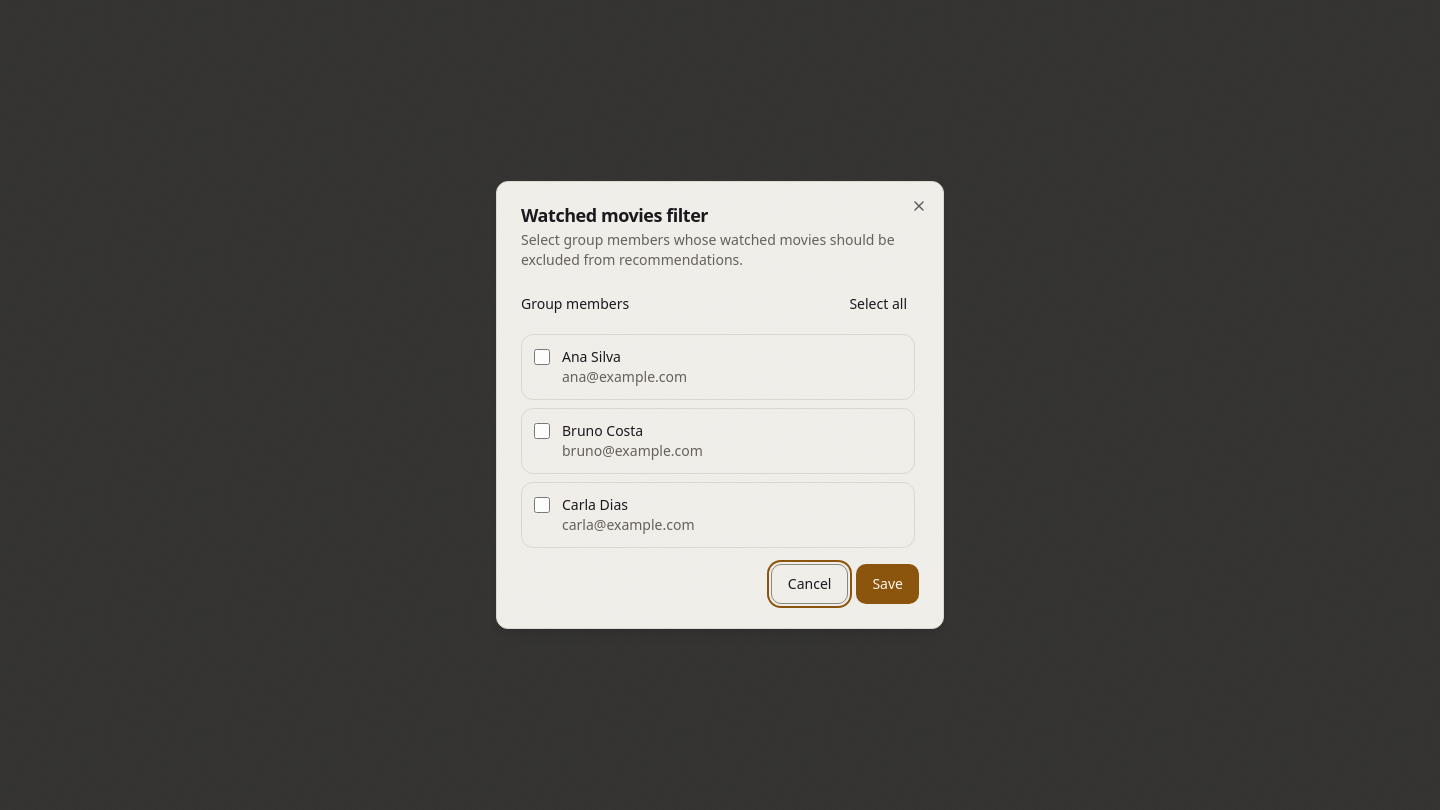
it: GroupChatFilterMembersDialog › REQ-6: atalho Selecionar todos marca todos os membros
expect the text "Ana Silva" is shown: met, box [562,347,621,366]
Click the button "Select all": (878, 304) [837,286,919,322]
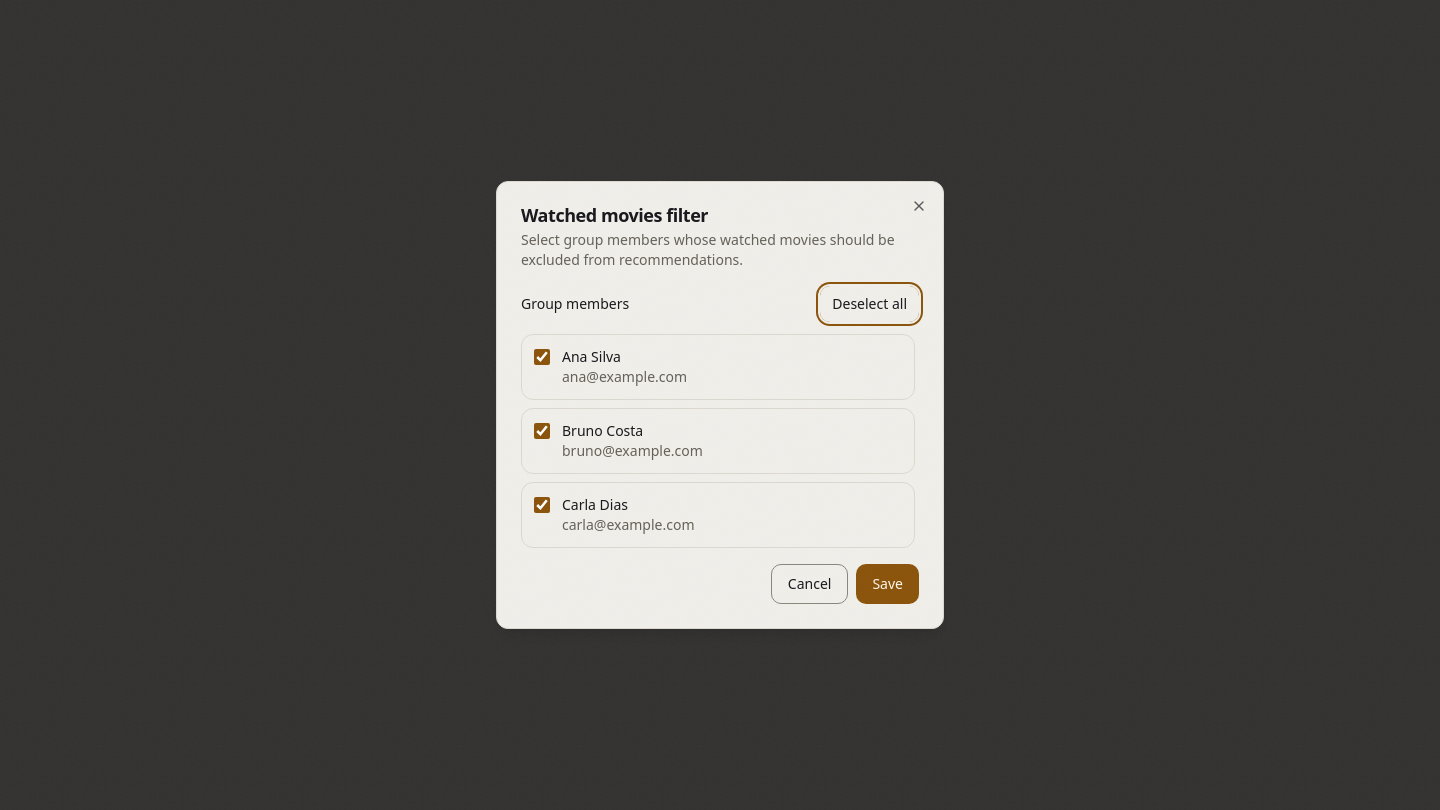
expect the checkbox labelled "Ana Silva ana@example.com" is checked: met, box [534,349,550,365]
expect the checkbox labelled "Bruno Costa bruno@example.com" is checked: met, box [534,423,550,439]
expect the checkbox labelled "Carla Dias carla@example.com" is checked: met, box [534,497,550,513]
